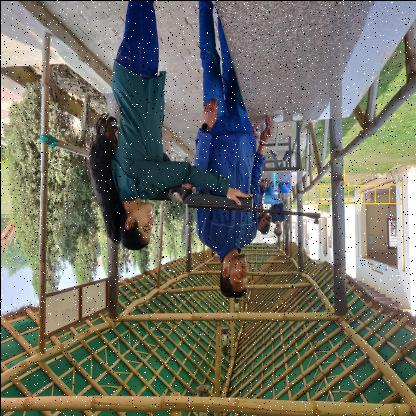rifle: (146, 181, 320, 225)
